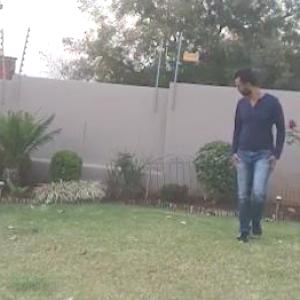follow: (226, 54, 288, 255)
